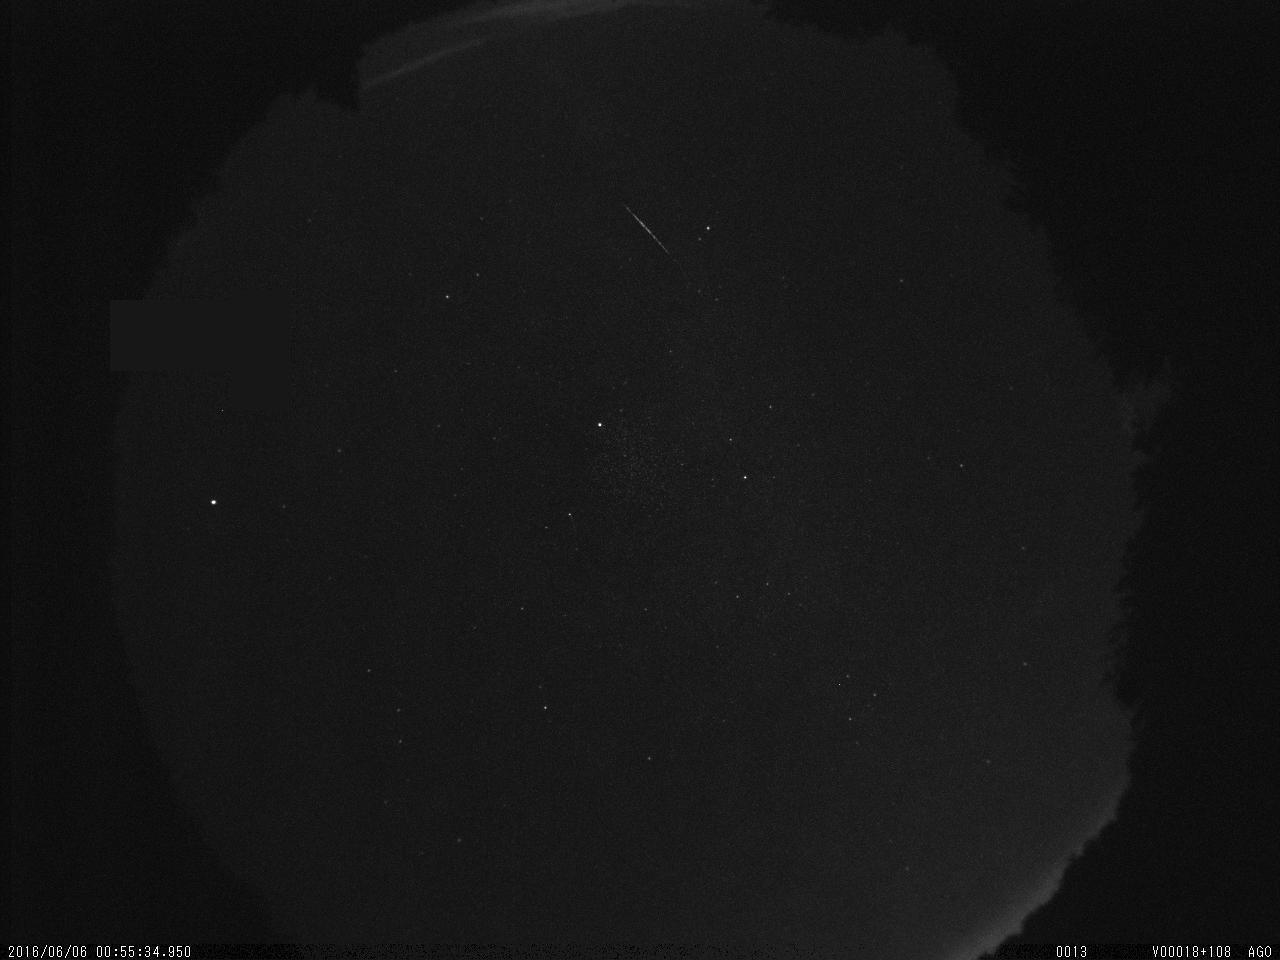Meteor: (623, 201, 672, 257)
